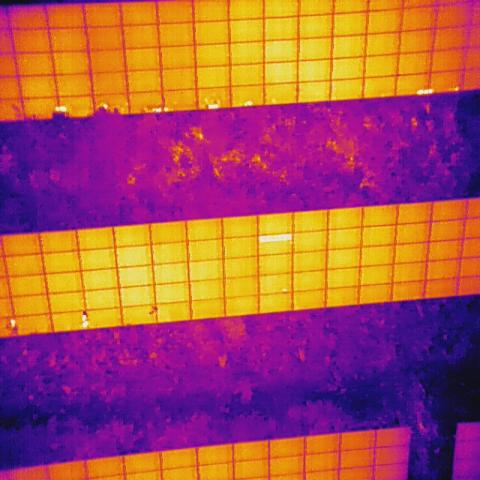fault: (257, 233, 292, 243), (143, 105, 171, 113), (416, 87, 434, 96), (53, 104, 68, 114), (81, 312, 88, 330), (100, 100, 109, 111), (207, 102, 218, 111), (243, 99, 254, 108), (9, 316, 17, 328), (453, 84, 458, 92)
